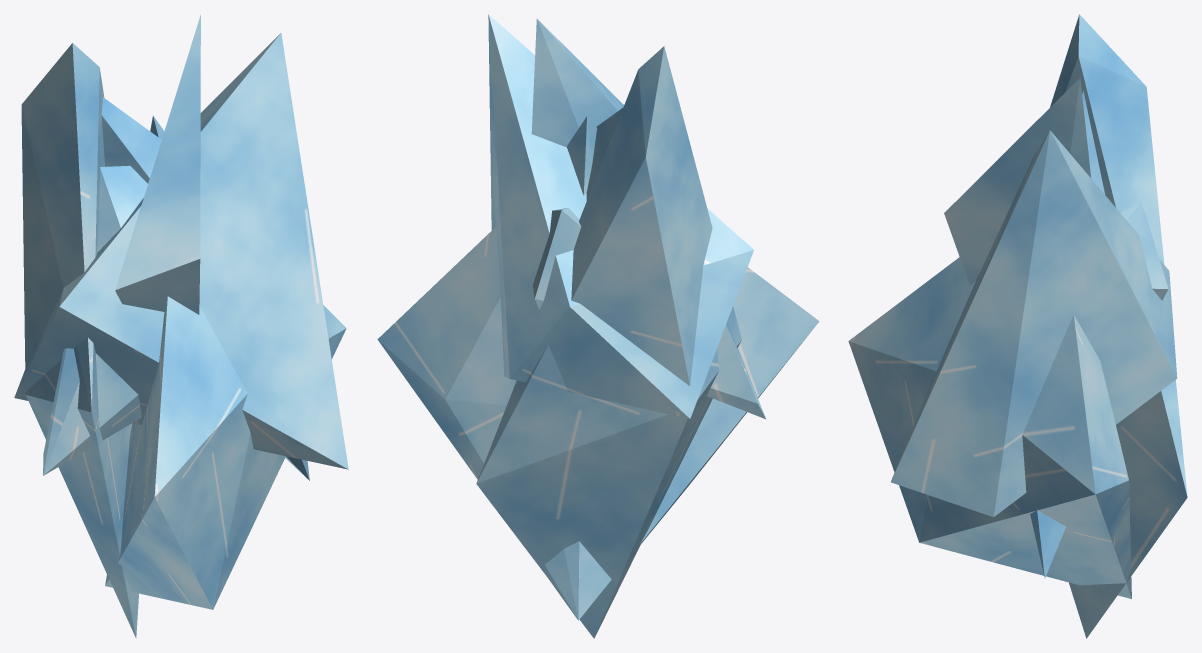
File: IceShards.fbx
The picture shows the model from 3 angles, left to right: view 1: azimuth 30°, elevation 25°; view 2: azimuth 150°, elevation 25°; view 3: azimuth 270°, elevation 25°; orthographic projection. The views are drawn at different scales.
Visible parts, largest first — view 1: Shard4, Shard3, Shard6, Shard9, Shard10, Shard8; view 2: Shard6, Shard4, Shard3, Shard9, Shard10, Shard2, Shard1, Shard8; view 3: Shard4, Shard3, Shard6, Shard9, Shard8, Shard2.
Part boxes in pixels (bbox=[...]): Shard4: bbox=[14, 33, 348, 469]; Shard3: bbox=[105, 296, 346, 609]; Shard6: bbox=[21, 43, 138, 638]; Shard9: bbox=[115, 14, 200, 314]; Shard10: bbox=[43, 165, 147, 475]; Shard8: bbox=[101, 97, 309, 480]; Shard6: bbox=[476, 46, 741, 638]; Shard4: bbox=[488, 14, 753, 418]; Shard3: bbox=[377, 226, 819, 620]; Shard9: bbox=[531, 18, 624, 147]; Shard10: bbox=[707, 322, 766, 419]; Shard2: bbox=[532, 207, 581, 309]; Shard1: bbox=[567, 116, 597, 195]; Shard8: bbox=[586, 108, 622, 200]; Shard4: bbox=[891, 130, 1177, 517]; Shard3: bbox=[848, 257, 1131, 598]; Shard6: bbox=[1050, 14, 1187, 638]; Shard9: bbox=[944, 78, 1091, 285]; Shard8: bbox=[1030, 91, 1104, 578]; Shard2: bbox=[1120, 202, 1168, 300].
Size of the model in its own units: 1.34 by 2.26 by 1.17.
Materials: 1 (1 with a texture image).
